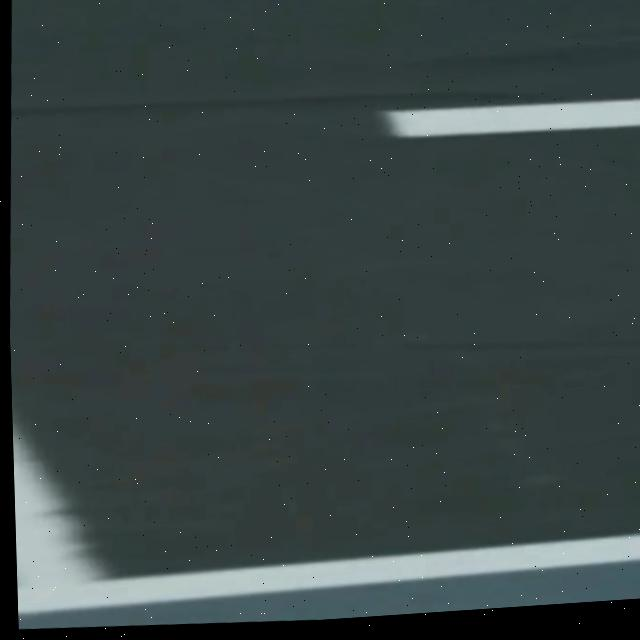center: (382, 99, 640, 136)
left: (17, 533, 640, 614)
